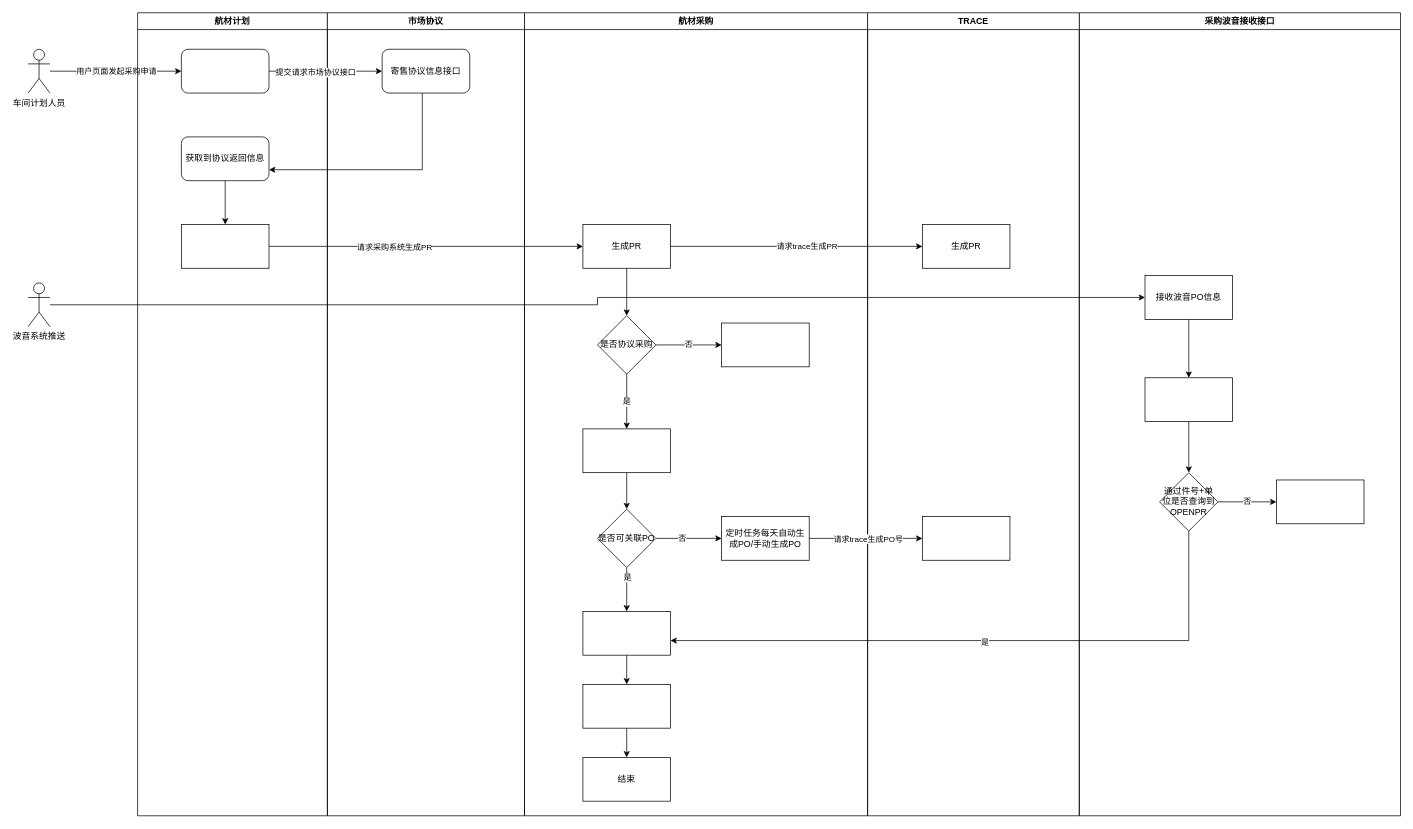
Image size: 1413x829. Some labels were removed from this diagram. The shapes that lost their labels are listed below. From the top down, each one's centre as x and y in pixels, then its label:
At [225,71]: "计划发起采购申（备件、缺件、库补）".
At [225,246]: "协议与非协议采购明细合并数据组装".
At [765,344]: "根据部门流转到现有采购审批规则处理".
At [1188,399]: "入库到航材协议PO".
At [626,450]: "自动读取协议报价/中标审批处理".
At [1320,501]: "自动生成库补采购、PR、中标".
At [966,538]: "生成PO号".
At [626,633]: "关联PO".
At [626,706]: "供应商发货".
